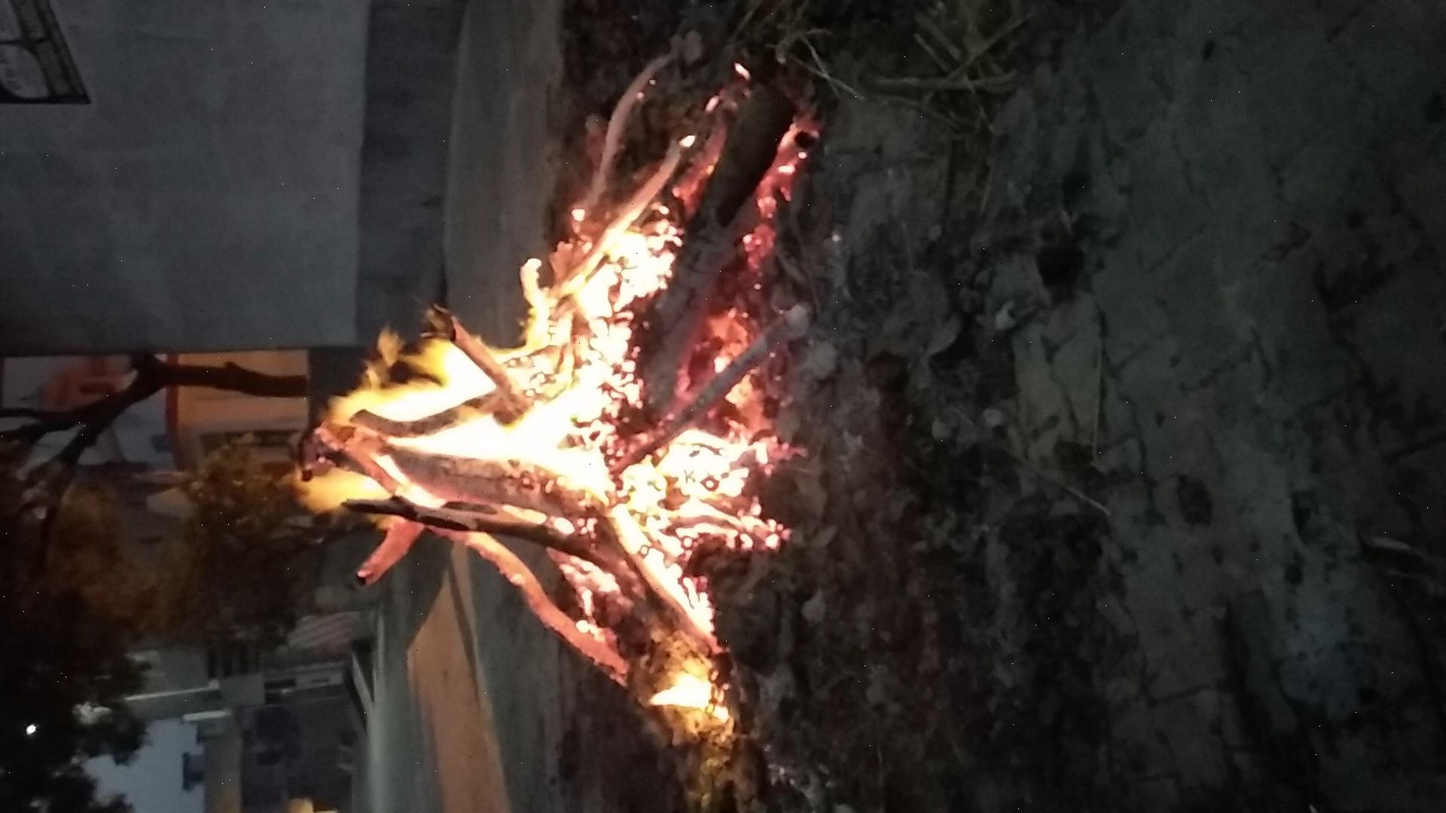fire: (183, 133, 1046, 437)
